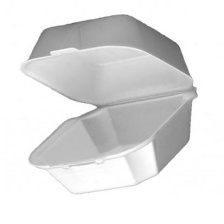foam_box: (16, 11, 202, 198)
